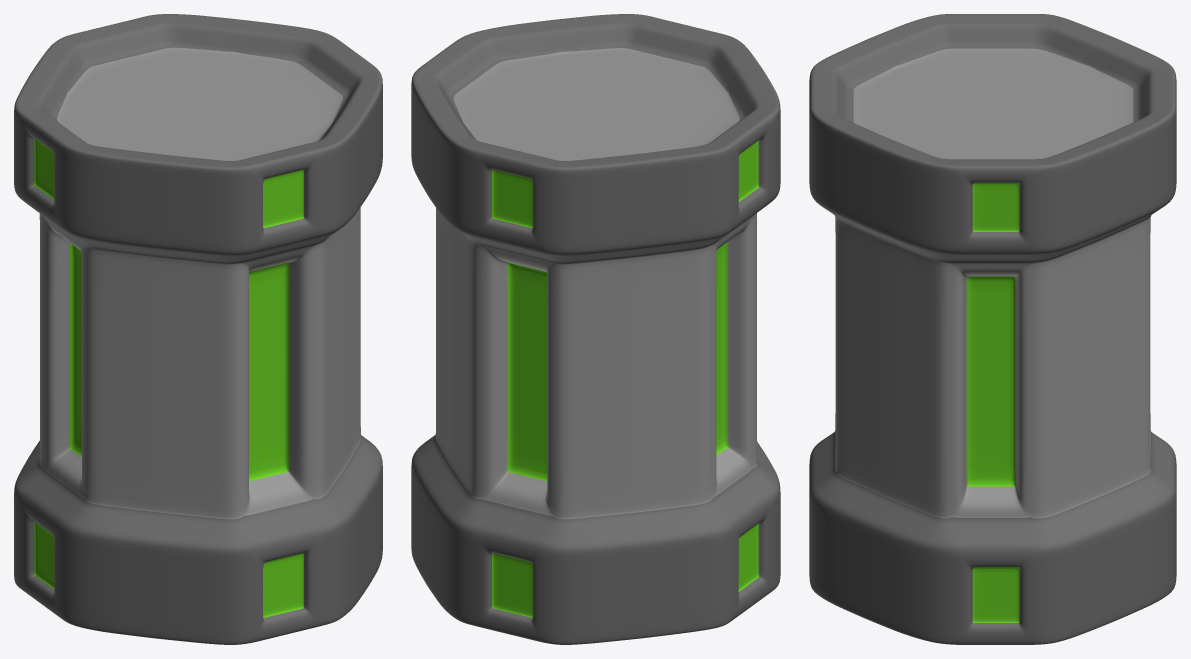
File: Sci_Fi_Barrel.fbx
3 views of the same model, side by side, from view 1: azimuth 30°, elevation 25°; view 2: azimuth 150°, elevation 25°; view 3: azimuth 270°, elevation 25° (orthographic).
Visible parts, largest first — view 1: pCube1; view 2: pCube1; view 3: pCube1.
Part boxes in pixels (box(x1,y1,x2,y2)): pCube1: box(14, 14, 382, 644); pCube1: box(411, 14, 780, 644); pCube1: box(809, 14, 1176, 644).
Size of the model in its own units: 1.33 by 1.91 by 1.33.
